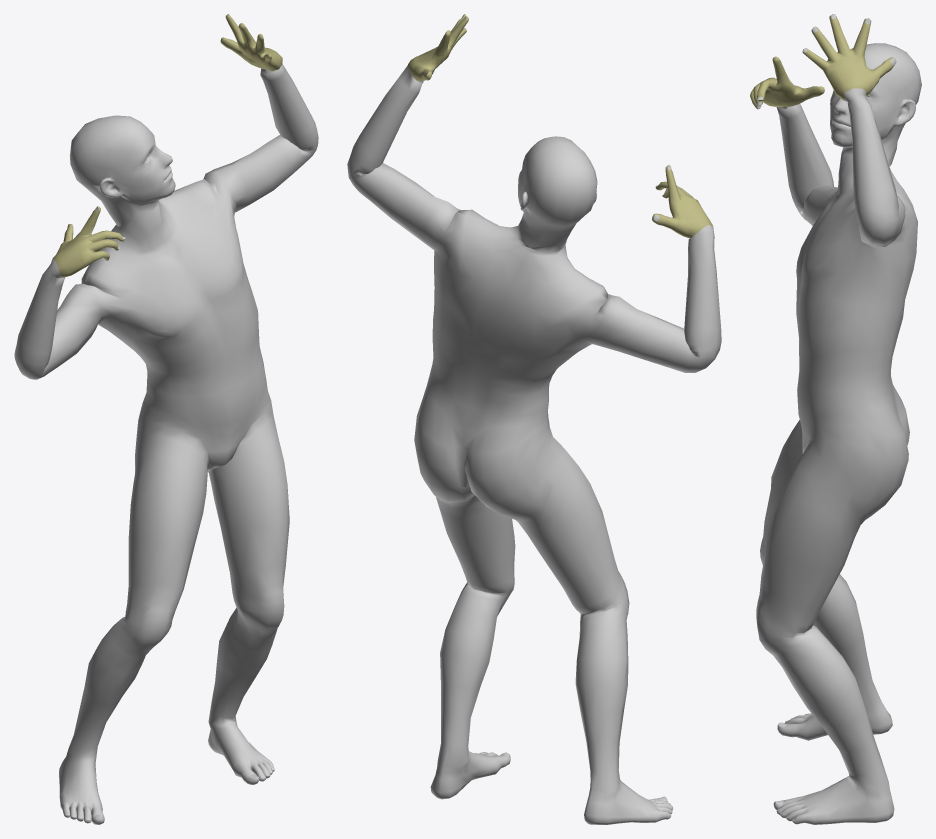
Rendered from ref3.glb.
3 renders of one model, left to right at view 1: azimuth 30°, elevation 25°; view 2: azimuth 150°, elevation 25°; view 3: azimuth 270°, elevation 25°, orthographic. The views are drawn at different scales.
Parts seen in each view (by area): view 1: man001; view 2: man001; view 3: man001.
Boxes of the visible parts, x1=… form: man001: x1=14, y1=14, x2=318, y2=824; man001: x1=347, y1=14, x2=721, y2=824; man001: x1=750, y1=14, x2=921, y2=824.
Bounding box in the file's own units: 0.8797 × 1.92 × 0.3689.
